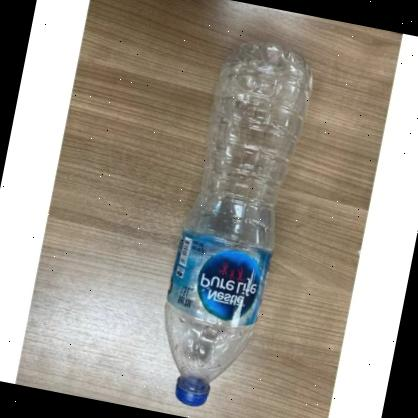bottle: (143, 30, 321, 418)
cap: (172, 378, 212, 410)
label: (164, 236, 274, 330)
